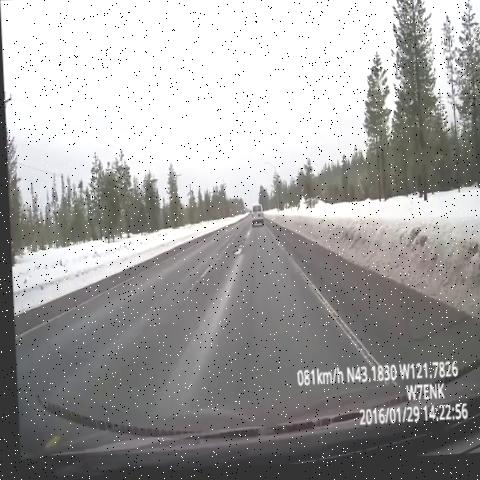pothole: (225, 235, 249, 266)
